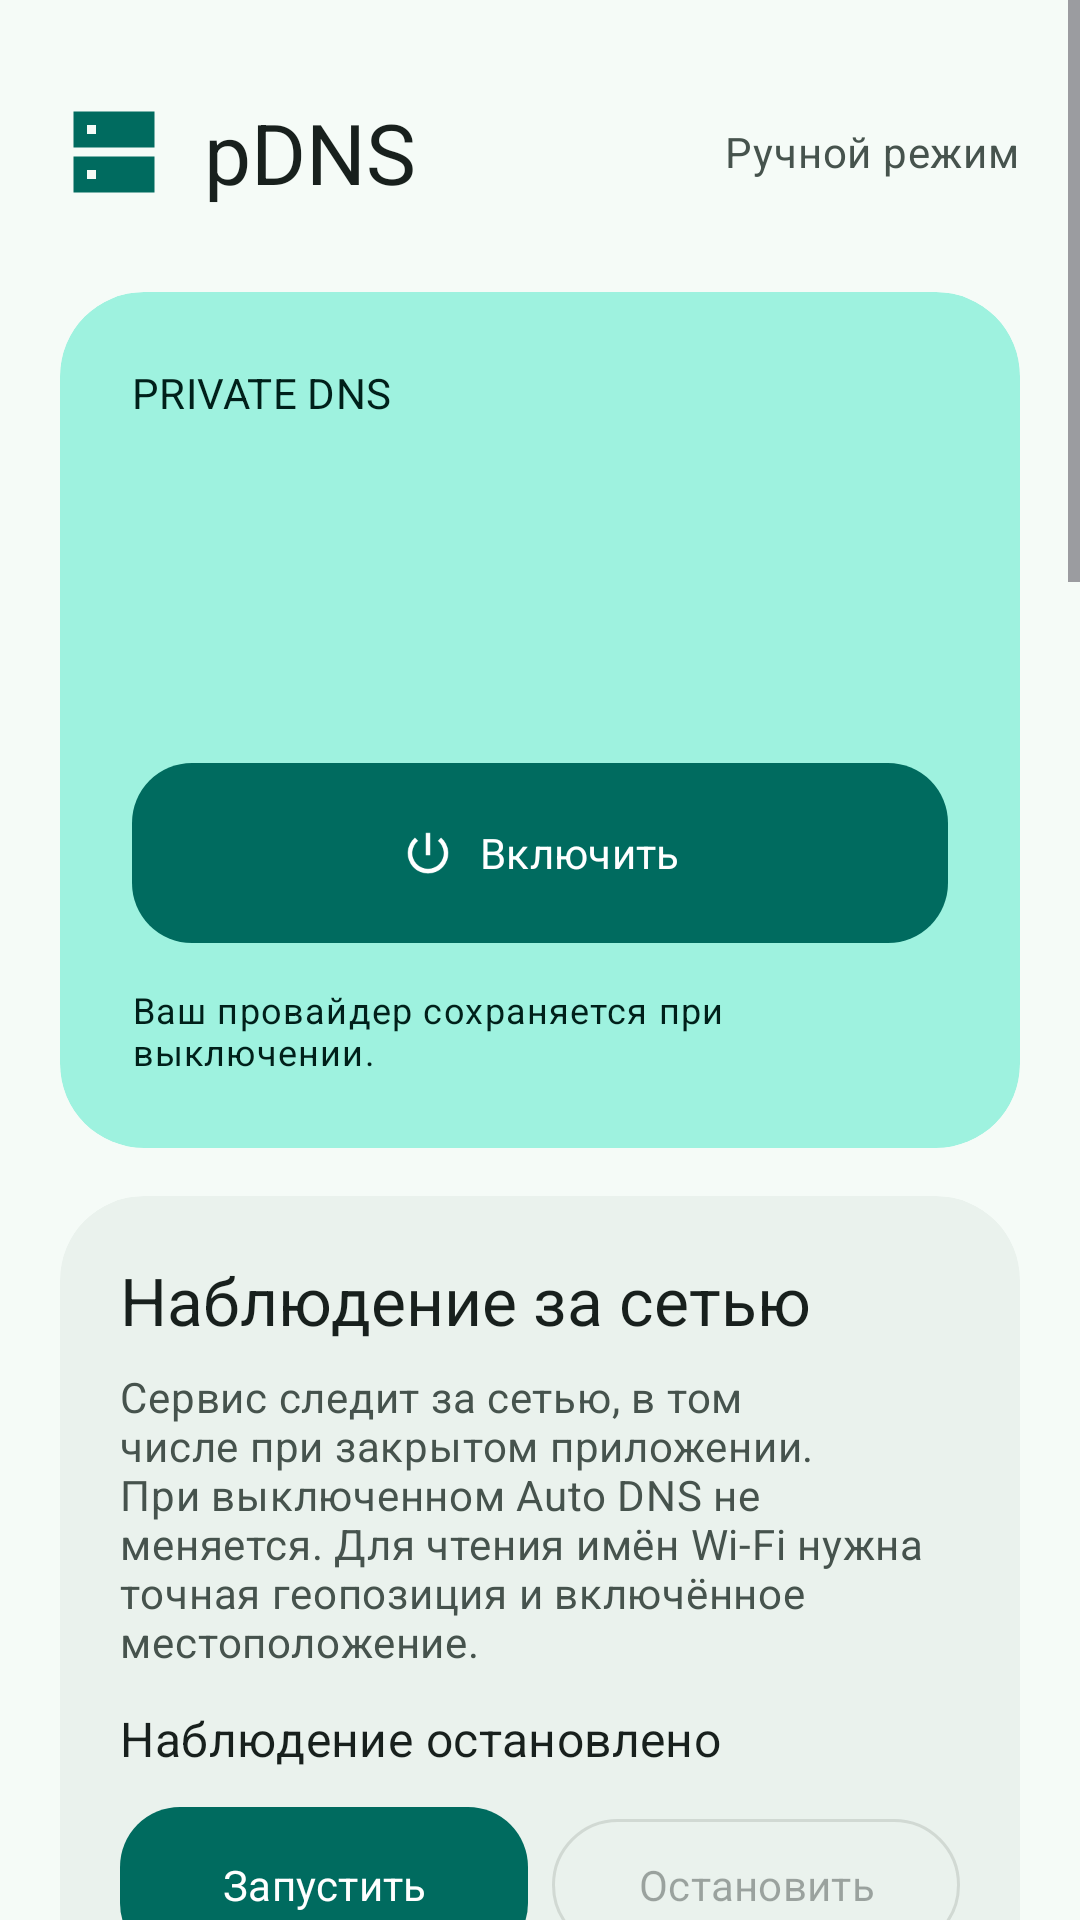

Point at icon controls on the screen. Image size 1080*1920, points as (x,y).
dns tile: (114,152)
